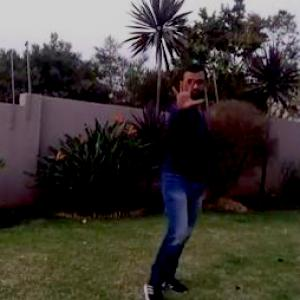follow_hand: (168, 74, 206, 110)
